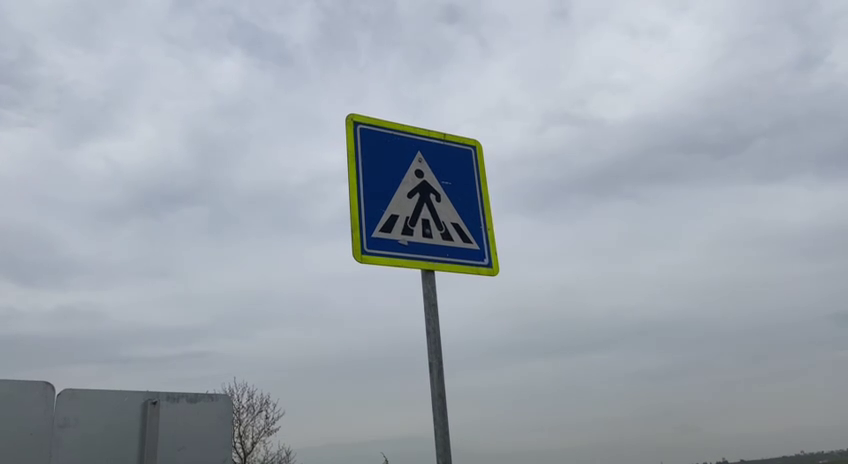pedestrianCrossing: (340, 109, 500, 277)
